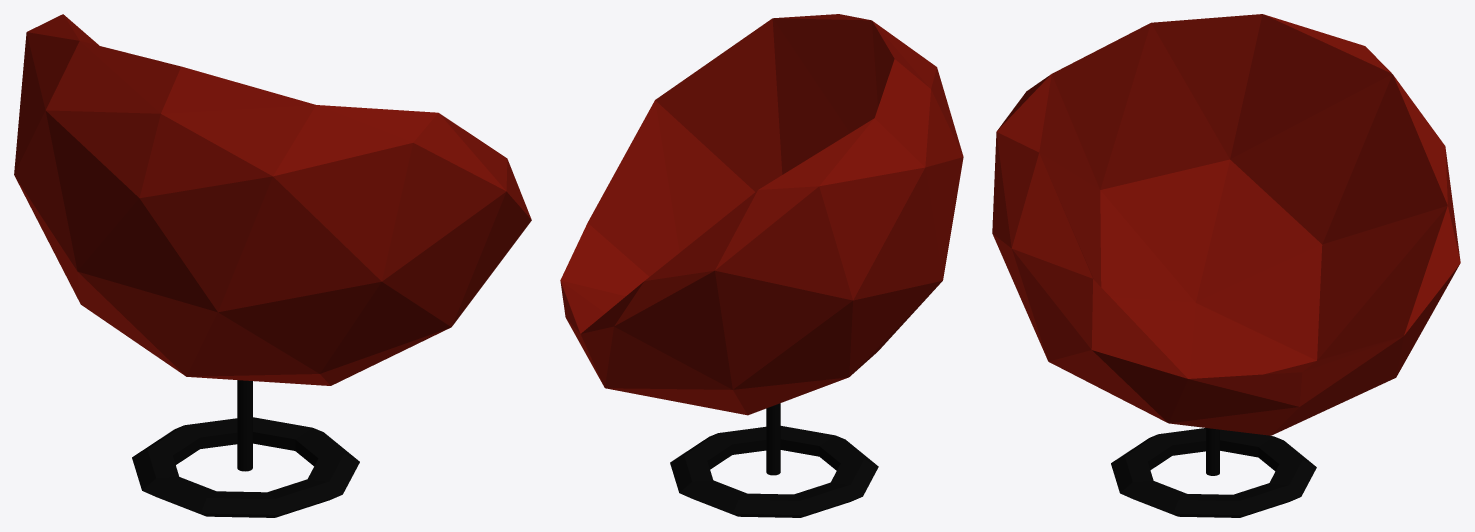
The model's file is Stuhl.fbx.
3 renders of one model, left to right at view 1: azimuth 30°, elevation 25°; view 2: azimuth 150°, elevation 25°; view 3: azimuth 270°, elevation 25°, orthographic. The views are drawn at different scales.
Visible parts, largest first — view 1: Stuhl, StuhlFuß, Stuhlstand; view 2: Stuhl, StuhlFuß, Stuhlstand; view 3: Stuhl, StuhlFuß, Stuhlstand.
Part boxes in pixels (x1,y1,x2,y2): Stuhl: (14,14,531,385); StuhlFuß: (132,417,359,517); Stuhlstand: (237,380,252,471); Stuhl: (560,14,963,415); StuhlFuß: (670,426,878,517); Stuhlstand: (766,403,780,475); Stuhl: (992,14,1460,435); StuhlFuß: (1111,428,1316,517); Stuhlstand: (1206,428,1219,475).
Size of the model in its own units: 104 by 113 by 116.
